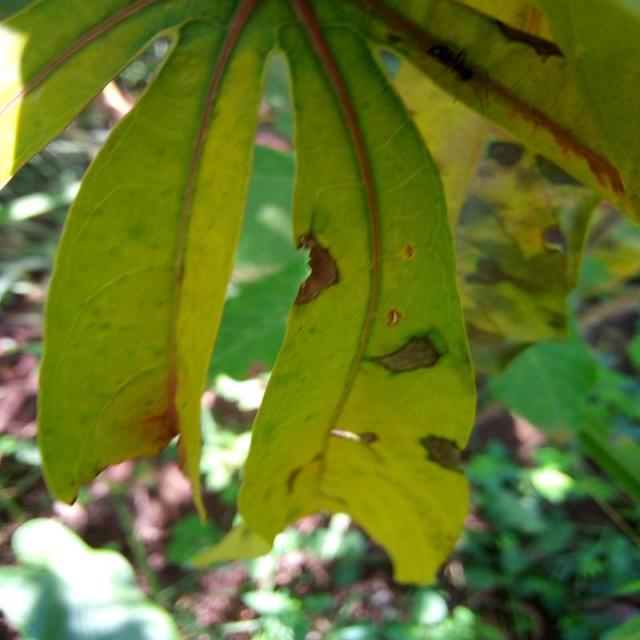cassava leaf: (0, 0, 639, 586), (232, 5, 478, 586), (34, 1, 277, 521)
